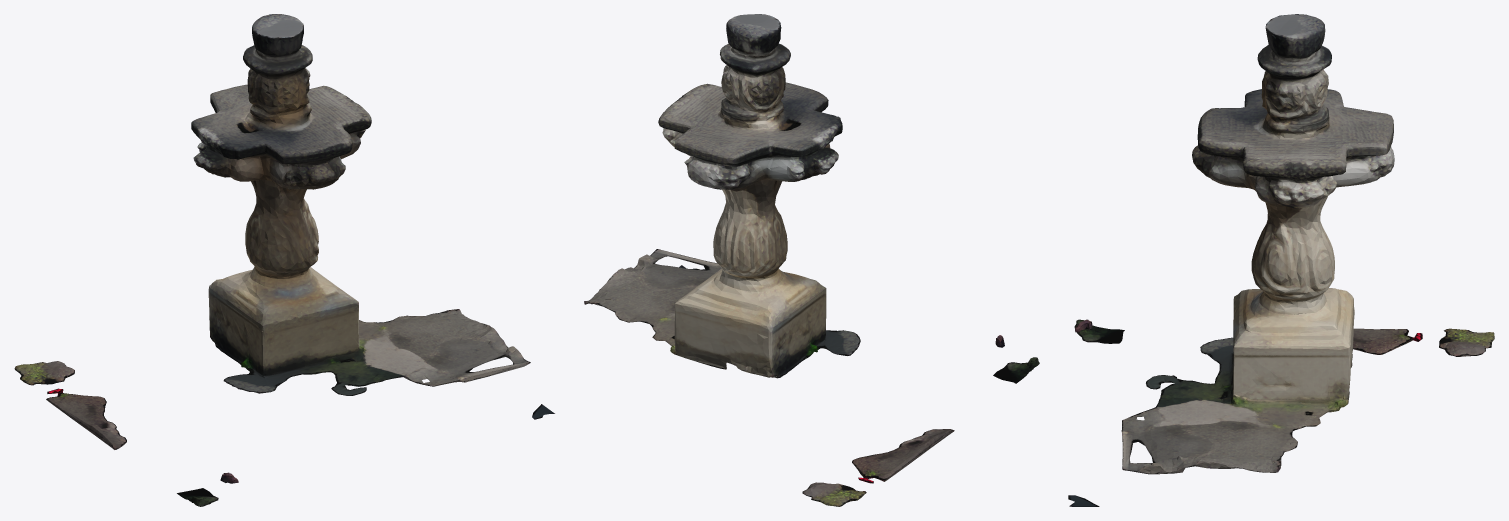
The model's file is agua.glb.
3 views of the same model, side by side, from view 1: azimuth 30°, elevation 25°; view 2: azimuth 150°, elevation 25°; view 3: azimuth 270°, elevation 25° (orthographic). The views are drawn at different scales.
Parts seen in each view (by area): view 1: world; view 2: world; view 3: world.
Boxes of the visible parts, x1,y1,x2,y2 form: world: (14, 14, 554, 506); world: (584, 14, 1039, 506); world: (1068, 14, 1494, 506).
Size of the model in its own units: 1 by 0.9987 by 0.9504.
1 material, 1 textured.
